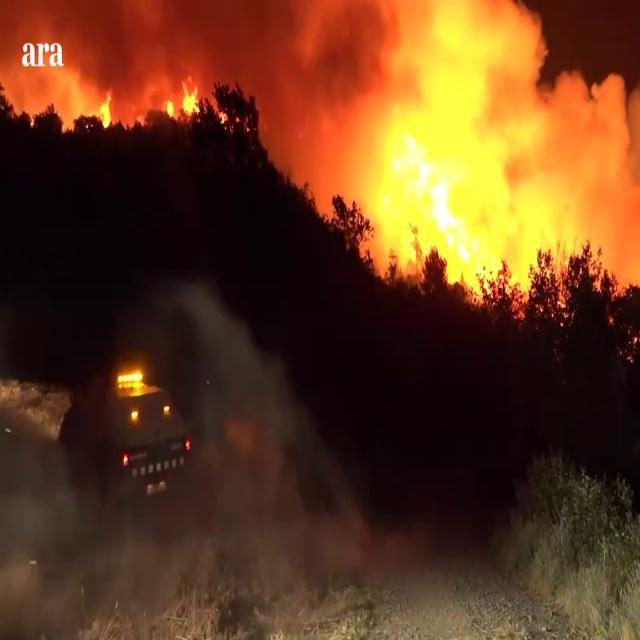Fire: (382, 95, 492, 304), (160, 74, 204, 129), (90, 84, 120, 130), (112, 366, 150, 390)
Smoke: (273, 0, 640, 289), (173, 331, 360, 604), (0, 0, 260, 139), (0, 415, 152, 638)
